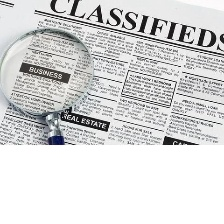news_paper: (0, 0, 224, 147)
